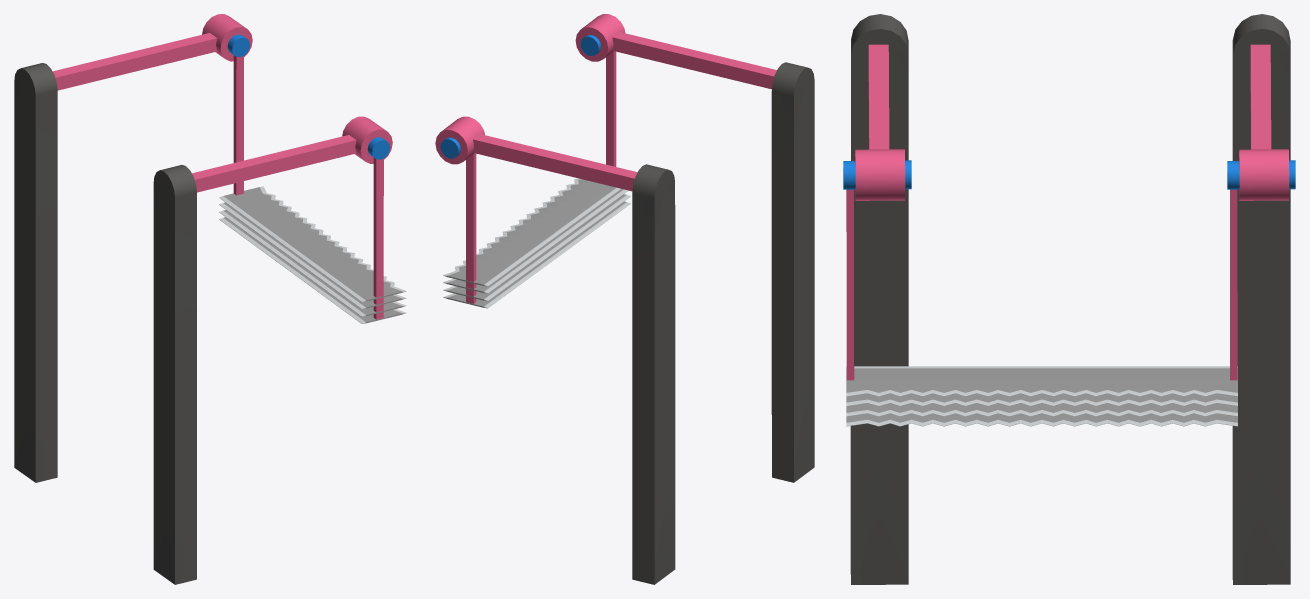
The model's file is trap_022.fbx.
3 views of the same model, side by side, from view 1: azimuth 30°, elevation 25°; view 2: azimuth 150°, elevation 25°; view 3: azimuth 270°, elevation 25° (orthographic). The views are drawn at different scales.
Visible parts, largest first — view 1: trap_013, trap_013_rotate; view 2: trap_013, trap_013_rotate; view 3: trap_013, trap_013_rotate.
Part boxes in pixels (bbox=[...]): trap_013: bbox=[14, 14, 392, 584]; trap_013_rotate: bbox=[219, 55, 406, 323]; trap_013: bbox=[435, 14, 814, 584]; trap_013_rotate: bbox=[443, 51, 630, 308]; trap_013: bbox=[843, 14, 1295, 584]; trap_013_rotate: bbox=[846, 189, 1237, 426].
Bounding box in the file's own units: 1895 × 3189 × 2352.
